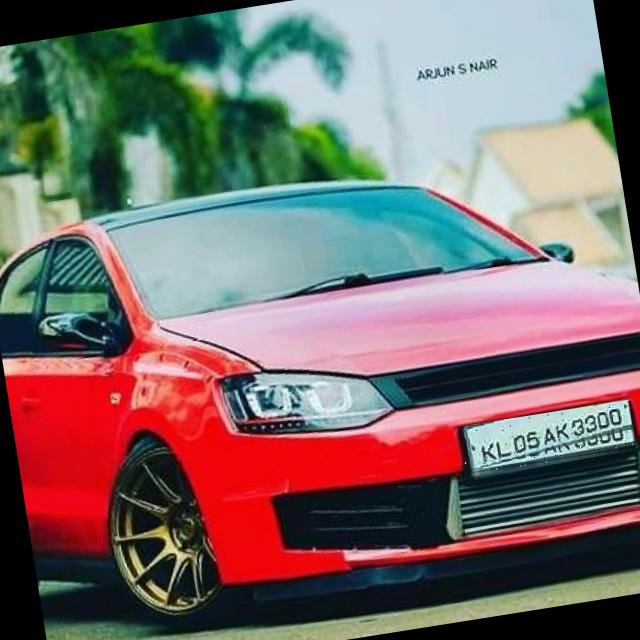Plate: (459, 402, 638, 478)
